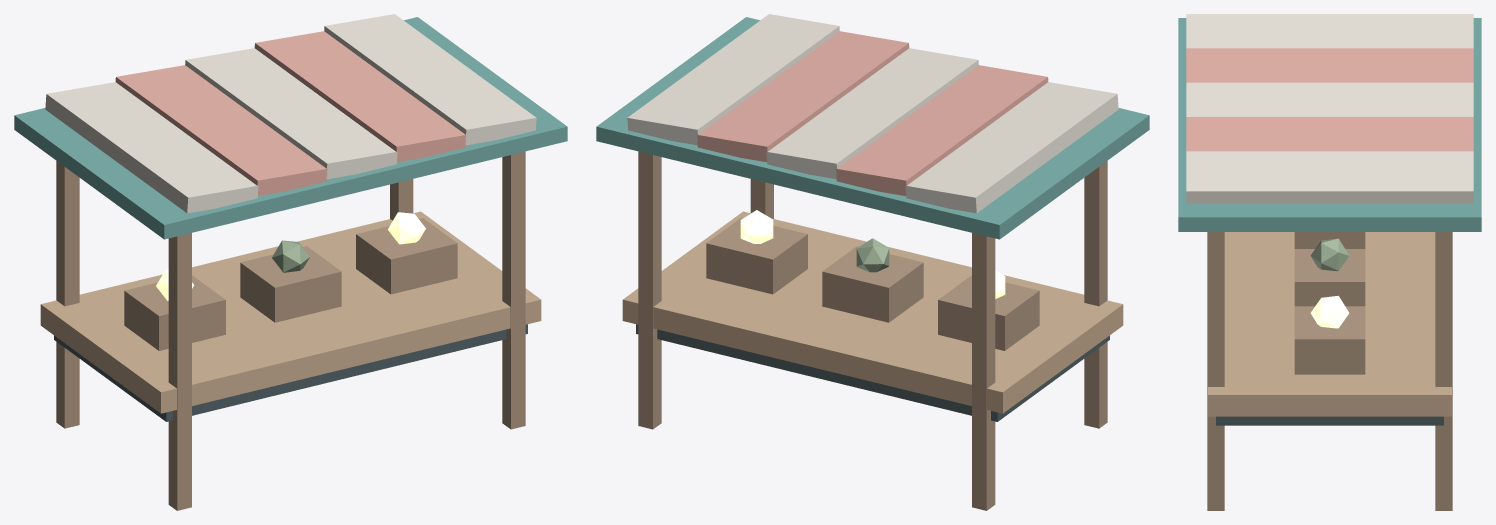
Rendered from yaba_market_stall.glb.
The picture shows the model from 3 angles, left to right: view 1: azimuth 30°, elevation 25°; view 2: azimuth 150°, elevation 25°; view 3: azimuth 270°, elevation 25°; orthographic projection.
Visible parts, largest first — view 1: stall_counter, awning_trim, awning_panel_0, awning_panel_4, awning_panel_2, awning_panel_1, awning_panel_3, stall_post_1.8_1.05, stall_post_-1.8_1.05, crate_2, crate_1, stall_post_-1.8_-1.05 (+5 smaller); view 2: stall_counter, awning_trim, awning_panel_0, awning_panel_4, awning_panel_2, awning_panel_3, awning_panel_1, stall_post_1.8_-1.05, stall_post_-1.8_-1.05, crate_1, crate_2, stall_post_-1.8_1.05 (+5 smaller); view 3: stall_counter, awning_panel_4, awning_trim, awning_panel_0, awning_panel_1, awning_panel_2, awning_panel_3, stall_post_1.8_1.05, stall_post_1.8_-1.05, crate_2, crate_1, stall_counter_shadow (+3 smaller).
Part boxes in pixels (bbox=[...]): stall_counter: bbox=[40, 211, 541, 413]; awning_trim: bbox=[14, 17, 567, 239]; awning_panel_0: bbox=[45, 82, 258, 213]; awning_panel_4: bbox=[324, 14, 536, 145]; awning_panel_2: bbox=[185, 48, 397, 179]; awning_panel_1: bbox=[115, 65, 327, 195]; awning_panel_3: bbox=[254, 31, 466, 162]; stall_post_1.8_1.05: bbox=[502, 151, 525, 429]; stall_post_-1.8_1.05: bbox=[168, 233, 191, 510]; crate_2: bbox=[356, 218, 457, 294]; crate_1: bbox=[240, 246, 341, 322]; stall_post_-1.8_-1.05: bbox=[56, 161, 79, 428]; stall_counter: bbox=[622, 211, 1123, 413]; awning_trim: bbox=[596, 17, 1149, 239]; awning_panel_0: bbox=[905, 82, 1118, 213]; awning_panel_4: bbox=[627, 14, 839, 145]; awning_panel_2: bbox=[766, 48, 978, 179]; awning_panel_3: bbox=[697, 31, 909, 162]; awning_panel_1: bbox=[836, 65, 1048, 195]; stall_post_1.8_-1.05: bbox=[638, 151, 661, 429]; stall_post_-1.8_-1.05: bbox=[972, 233, 995, 510]; crate_1: bbox=[822, 246, 923, 322]; crate_2: bbox=[706, 218, 807, 294]; stall_post_-1.8_1.05: bbox=[1084, 161, 1107, 428]; stall_counter: bbox=[1208, 232, 1451, 416]; awning_panel_4: bbox=[1186, 151, 1473, 203]; awning_trim: bbox=[1178, 18, 1481, 231]; awning_panel_0: bbox=[1186, 14, 1473, 48]; awning_panel_1: bbox=[1186, 48, 1473, 82]; awning_panel_2: bbox=[1186, 82, 1473, 116]; awning_panel_3: bbox=[1186, 117, 1473, 151]; stall_post_1.8_1.05: bbox=[1207, 232, 1224, 510]; stall_post_1.8_-1.05: bbox=[1435, 232, 1452, 510]; crate_2: bbox=[1294, 306, 1365, 374]; crate_1: bbox=[1294, 249, 1365, 306]; stall_counter_shadow: bbox=[1216, 416, 1443, 425].
Size of what is drawn, in the model's own units: 4.35 by 3.31 by 2.8.
